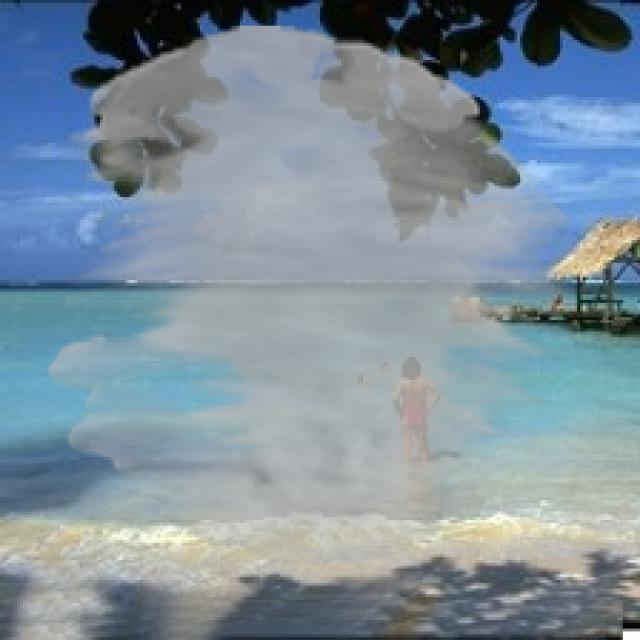Smoke: (49, 26, 578, 566)
